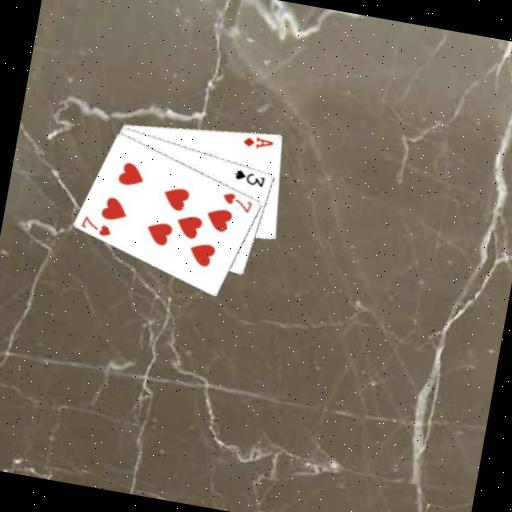3S: (230, 165, 268, 189)
7H: (76, 211, 115, 238), (217, 188, 255, 215)
AD: (240, 130, 276, 152)
